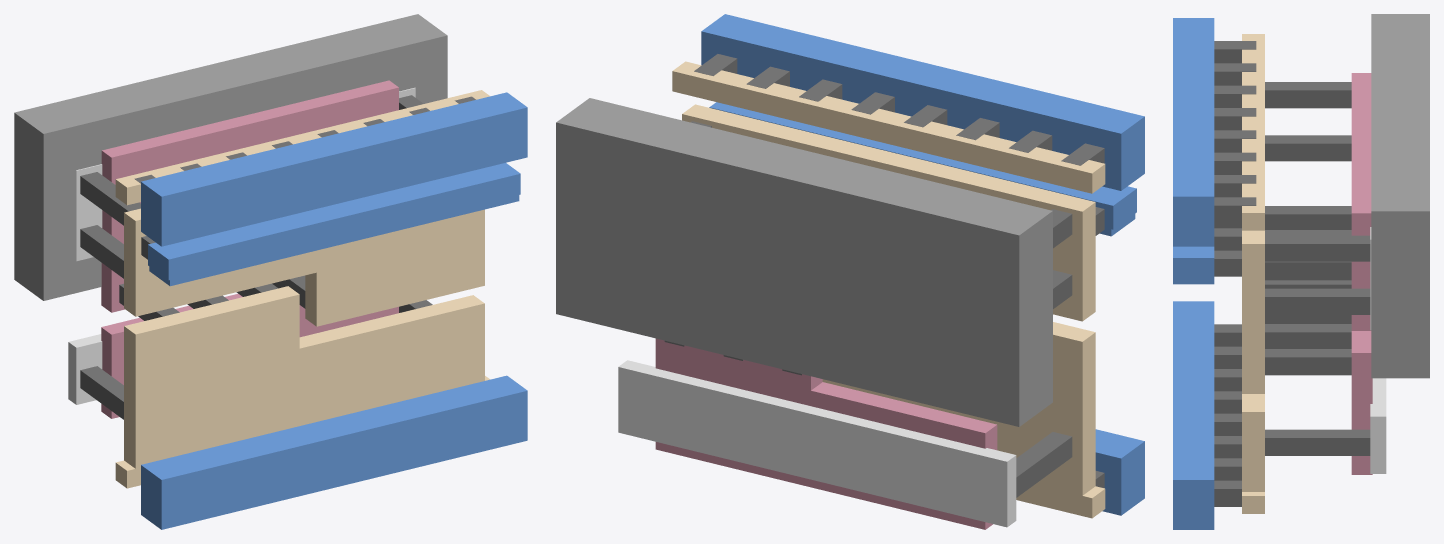
File: sky130_fd_sc_hd__lpflow_decapkapwr_8.gds.gltf
3 views of the same model, side by side, from view 1: azimuth 30°, elevation 25°; view 2: azimuth 150°, elevation 25°; view 3: azimuth 270°, elevation 25° (orthographic). The views are drawn at different scales.
Visible parts, largest first — view 1: sky130_fd_sc_hd__lpflow_decapkapwr_8_met1, sky130_fd_sc_hd__lpflow_decapkapwr_8_li1, sky130_fd_sc_hd__lpflow_decapkapwr_8_nwell, sky130_fd_sc_hd__lpflow_decapkapwr_8_poly, sky130_fd_sc_hd__lpflow_decapkapwr_8_licon, sky130_fd_sc_hd__lpflow_decapkapwr_8_diff, sky130_fd_sc_hd__lpflow_decapkapwr_8_mcon; view 2: sky130_fd_sc_hd__lpflow_decapkapwr_8_nwell, sky130_fd_sc_hd__lpflow_decapkapwr_8_li1, sky130_fd_sc_hd__lpflow_decapkapwr_8_met1, sky130_fd_sc_hd__lpflow_decapkapwr_8_diff, sky130_fd_sc_hd__lpflow_decapkapwr_8_poly, sky130_fd_sc_hd__lpflow_decapkapwr_8_mcon, sky130_fd_sc_hd__lpflow_decapkapwr_8_licon; view 3: sky130_fd_sc_hd__lpflow_decapkapwr_8_licon, sky130_fd_sc_hd__lpflow_decapkapwr_8_nwell, sky130_fd_sc_hd__lpflow_decapkapwr_8_met1, sky130_fd_sc_hd__lpflow_decapkapwr_8_mcon, sky130_fd_sc_hd__lpflow_decapkapwr_8_li1, sky130_fd_sc_hd__lpflow_decapkapwr_8_poly, sky130_fd_sc_hd__lpflow_decapkapwr_8_diff.
Boxes of the visible parts, x1,y1,x2,y2 form: sky130_fd_sc_hd__lpflow_decapkapwr_8_met1: (141, 92, 527, 529); sky130_fd_sc_hd__lpflow_decapkapwr_8_li1: (115, 90, 489, 488); sky130_fd_sc_hd__lpflow_decapkapwr_8_nwell: (14, 14, 447, 300); sky130_fd_sc_hd__lpflow_decapkapwr_8_poly: (101, 80, 398, 418); sky130_fd_sc_hd__lpflow_decapkapwr_8_licon: (80, 95, 432, 419); sky130_fd_sc_hd__lpflow_decapkapwr_8_diff: (68, 87, 415, 404); sky130_fd_sc_hd__lpflow_decapkapwr_8_mcon: (134, 96, 475, 259); sky130_fd_sc_hd__lpflow_decapkapwr_8_nwell: (556, 98, 1052, 426); sky130_fd_sc_hd__lpflow_decapkapwr_8_li1: (672, 61, 1105, 518); sky130_fd_sc_hd__lpflow_decapkapwr_8_met1: (701, 14, 1144, 515); sky130_fd_sc_hd__lpflow_decapkapwr_8_diff: (618, 360, 1016, 527); sky130_fd_sc_hd__lpflow_decapkapwr_8_poly: (655, 338, 997, 529); sky130_fd_sc_hd__lpflow_decapkapwr_8_mcon: (694, 54, 1104, 488); sky130_fd_sc_hd__lpflow_decapkapwr_8_licon: (664, 121, 1072, 497); sky130_fd_sc_hd__lpflow_decapkapwr_8_licon: (1265, 82, 1370, 455); sky130_fd_sc_hd__lpflow_decapkapwr_8_nwell: (1371, 14, 1429, 378); sky130_fd_sc_hd__lpflow_decapkapwr_8_met1: (1173, 18, 1214, 529); sky130_fd_sc_hd__lpflow_decapkapwr_8_mcon: (1214, 41, 1256, 506); sky130_fd_sc_hd__lpflow_decapkapwr_8_li1: (1242, 34, 1264, 513); sky130_fd_sc_hd__lpflow_decapkapwr_8_poly: (1351, 73, 1372, 474); sky130_fd_sc_hd__lpflow_decapkapwr_8_diff: (1370, 227, 1386, 473).
Bounding box in the file's own units: 4.06 × 3.2 × 2.24.
